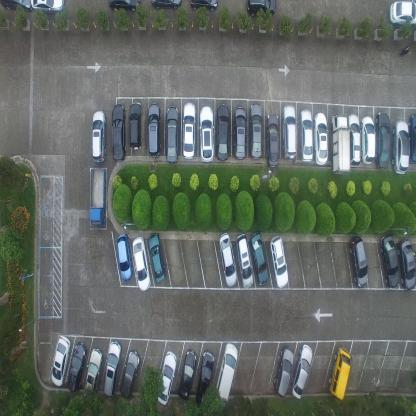car: (214, 341, 239, 408), (290, 343, 314, 400), (330, 112, 350, 175), (328, 347, 351, 401), (194, 350, 214, 410), (102, 338, 122, 398), (156, 349, 177, 406), (379, 234, 400, 288), (273, 346, 294, 399), (66, 341, 87, 394), (249, 231, 269, 286), (119, 348, 140, 400), (51, 335, 72, 387), (132, 236, 151, 292), (218, 232, 237, 288), (348, 235, 368, 288), (178, 348, 198, 401), (235, 233, 254, 288), (83, 348, 103, 400), (392, 119, 409, 176), (180, 100, 196, 160), (375, 110, 391, 170), (270, 235, 288, 288), (90, 167, 106, 226), (148, 231, 166, 283), (397, 238, 415, 290), (281, 104, 297, 162), (111, 103, 126, 163), (198, 105, 213, 164), (90, 109, 106, 163), (216, 101, 230, 162), (165, 104, 179, 164), (248, 101, 262, 160), (313, 111, 328, 165), (360, 115, 376, 165), (265, 112, 279, 169), (117, 232, 133, 281), (299, 108, 313, 162), (147, 101, 160, 159), (389, 0, 415, 29), (128, 101, 143, 151), (233, 104, 246, 160), (348, 112, 360, 169), (246, 0, 277, 18), (30, 0, 66, 15), (107, 0, 141, 14), (0, 0, 34, 14), (188, 0, 218, 13), (408, 113, 415, 166), (150, 0, 182, 11)
